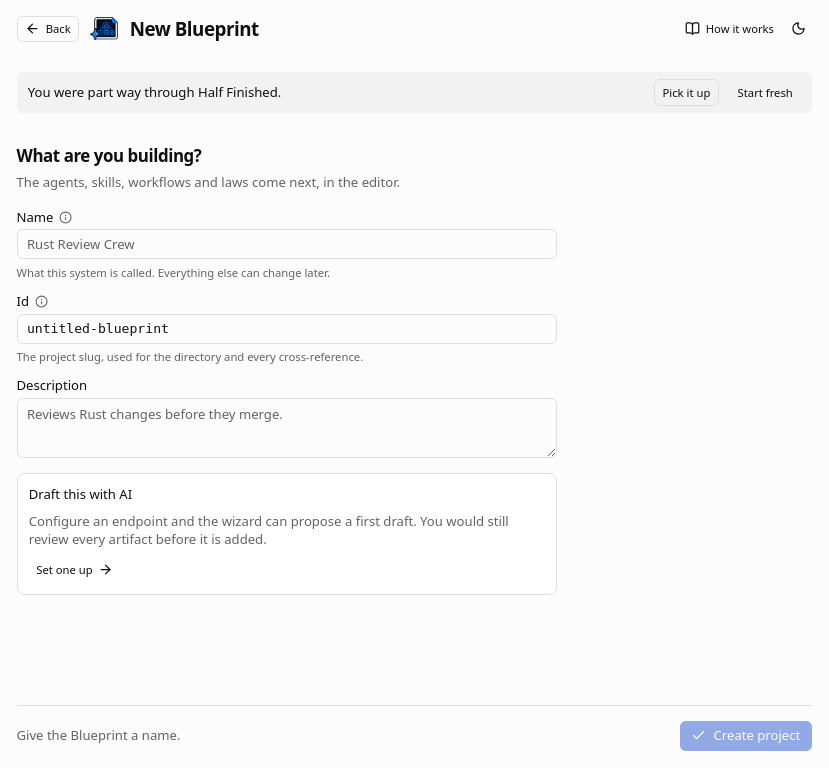
Test: New Blueprint › offers to pick up a draft left behind
The image size is (829, 768).
Expected: the text "You were part way through Half Finished." is shown, [28, 83, 281, 101]
Click the button "Pick it up" at (686, 92), box [654, 79, 719, 106]
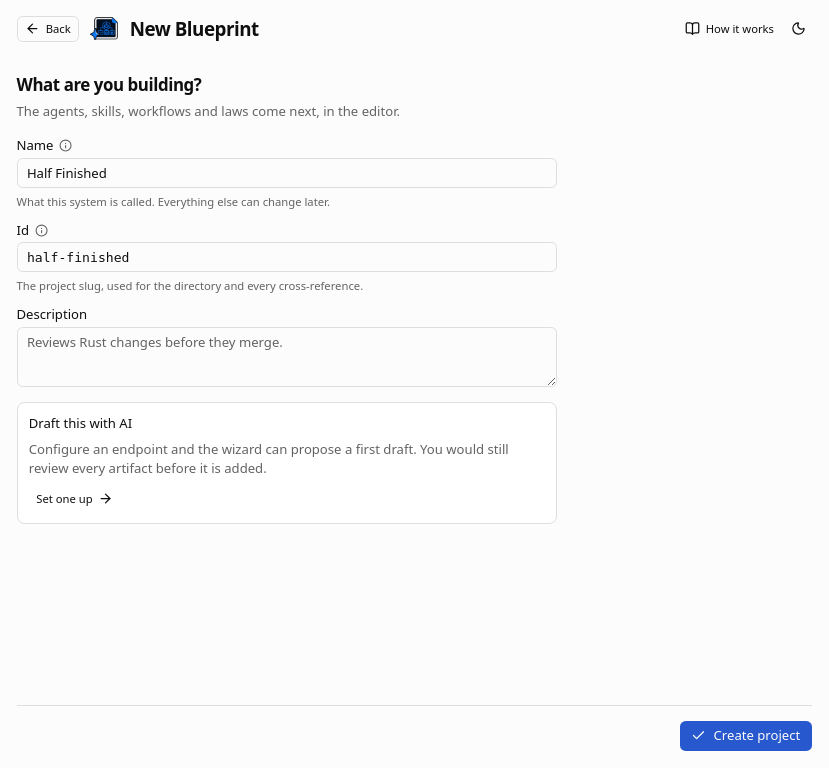
Expected: the field labelled "Name" holds "Half Finished", [16, 158, 556, 188]
